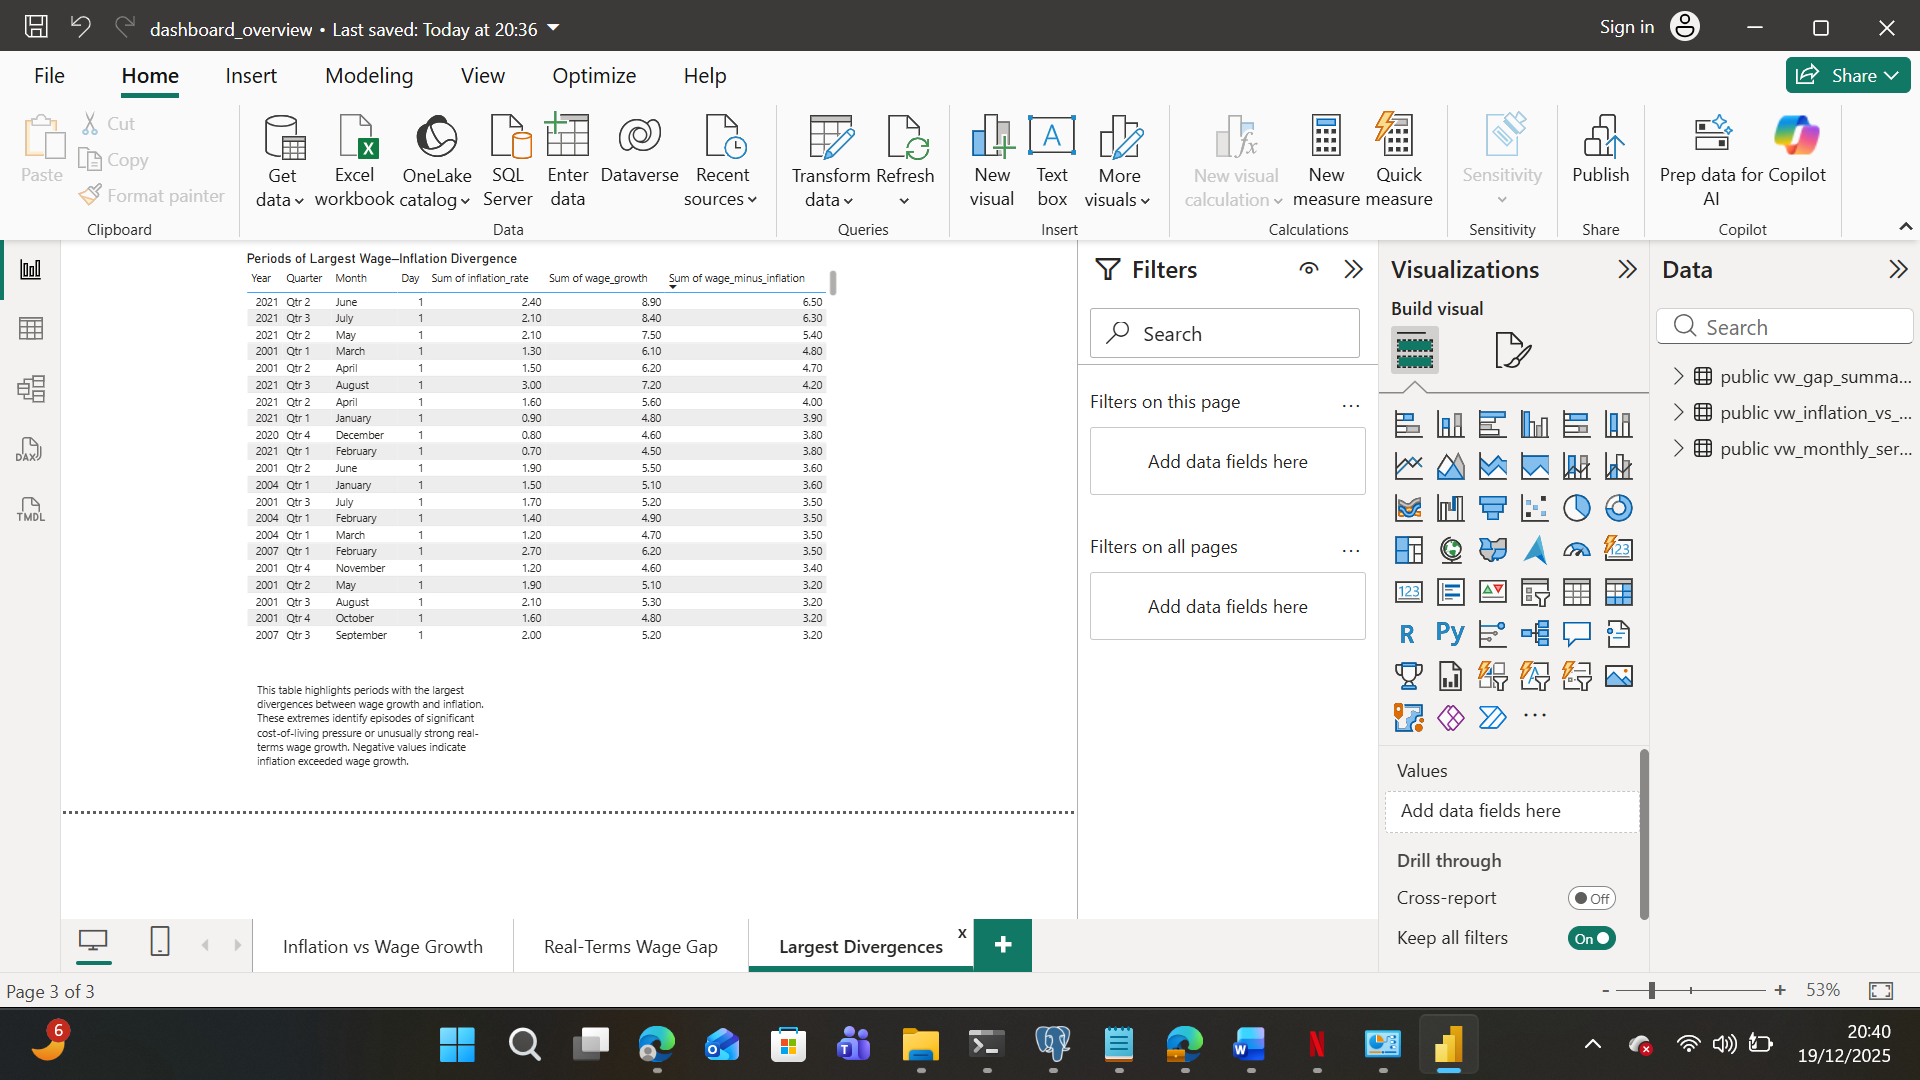

Layout of this report page (visuals, bound fields, positions):
{"tool":"powerbi","page":{"name":"Largest Divergences","canvas":[1280,720],"ordinal":2},"visuals":[{"type":"tableEx","title":"Periods of Largest Wage–Inflation Divergence","fields":{"Values":["public vw_gap_summary.date_id.Variation.Date Hierarchy.Year","public vw_gap_summary.date_id.Variation.Date Hierarchy.Quarter","public vw_gap_summary.date_id.Variation.Date Hierarchy.Month","public vw_gap_summary.date_id.Variation.Date Hierarchy.Day","Sum(public vw_gap_summary.inflation_rate)","Sum(public vw_gap_summary.wage_growth)","Sum(public vw_gap_summary.wage_minus_inflation)"]},"box":[229.3,13.5,753.4,495.2],"z":0},{"type":"textbox","box":[241.9,551.8,302.4,138],"z":1000}]}

Visuals, with their boxes on the page's 1280x720 design canvas (x1, y1, x2, y2). These are canvas units, not pixel positions in the 1920x1080 screenshot, which may show the page scaled, cropped or inside an application window:
"Periods of Largest Wage–Inflation Divergence" tableEx: {"left": 229, "top": 14, "right": 983, "bottom": 509}
textbox: {"left": 242, "top": 552, "right": 544, "bottom": 690}
